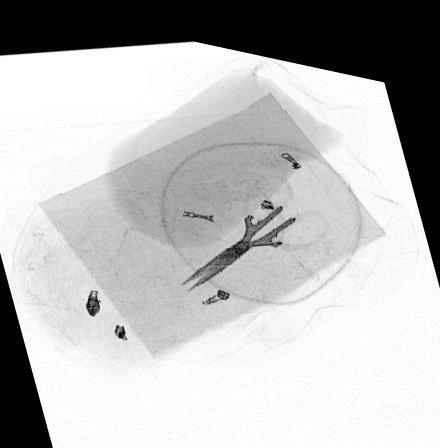Scissors: (179, 159, 332, 285)
